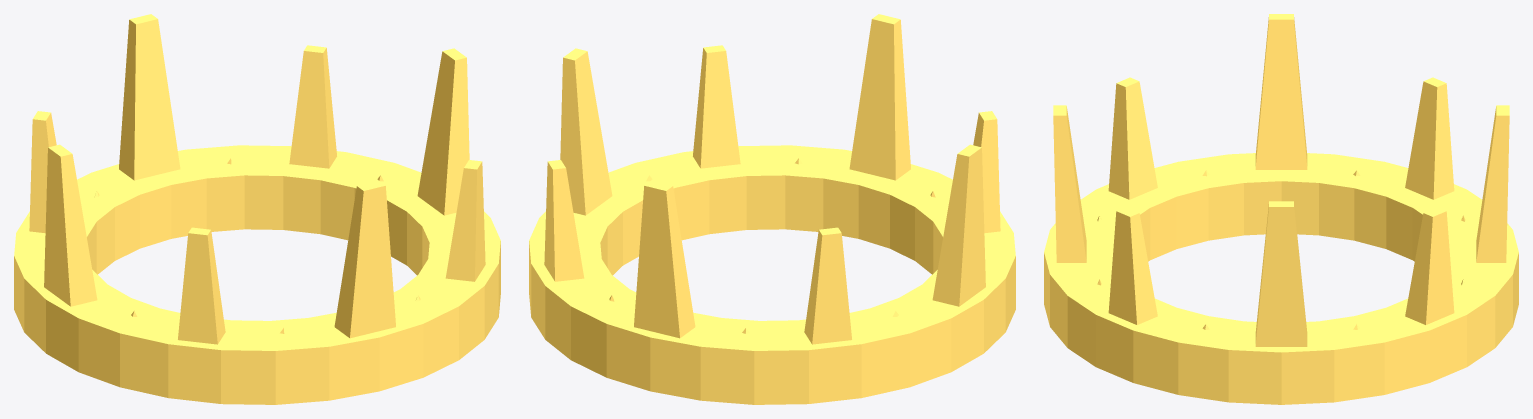
The model's file is XiOStandardCrown.glb.
The picture shows the model from 3 angles, left to right: view 1: azimuth 30°, elevation 25°; view 2: azimuth 150°, elevation 25°; view 3: azimuth 270°, elevation 25°; orthographic projection. The views are drawn at different scales.
Parts seen in each view (by area): view 1: XiOStandardCrown; view 2: XiOStandardCrown; view 3: XiOStandardCrown.
Boxes of the visible parts, left/top/right/bottom form: XiOStandardCrown: left=14, top=14, right=500, bottom=404; XiOStandardCrown: left=529, top=14, right=1015, bottom=404; XiOStandardCrown: left=1044, top=14, right=1518, bottom=404.
Size of the model in its own units: 1.64 by 0.74 by 1.64.
